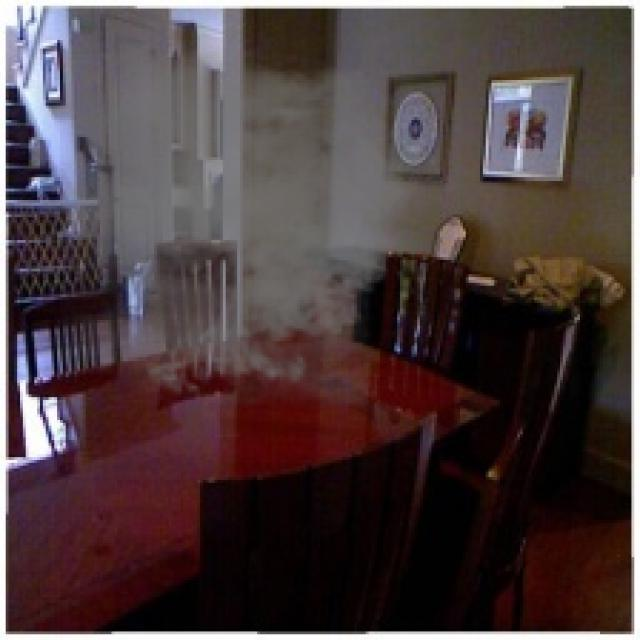Smoke: (59, 46, 432, 406)
